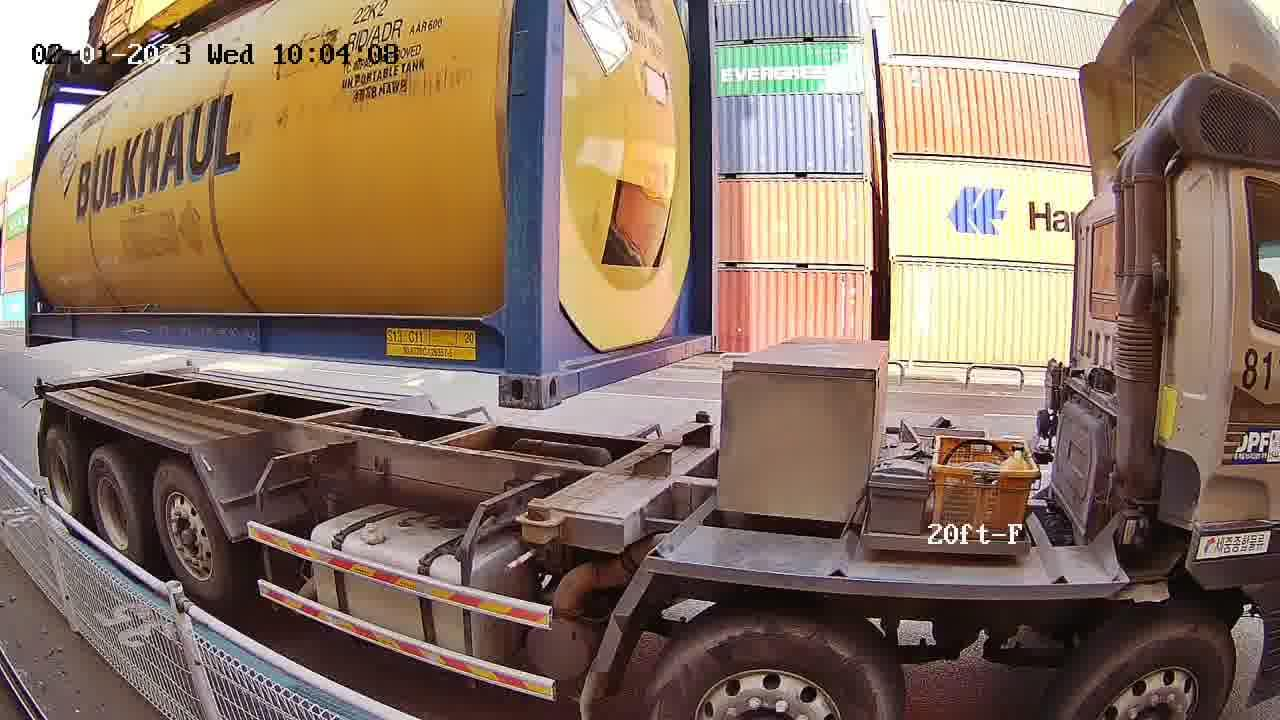Chassis: (519, 424, 714, 527)
Cone: (518, 497, 561, 555), (691, 409, 715, 428)
Hole_L: (540, 336, 588, 410)
Hole_R: (465, 336, 544, 410), (698, 316, 720, 354)
Tire: (153, 465, 233, 600), (88, 448, 149, 567), (45, 431, 83, 527)
